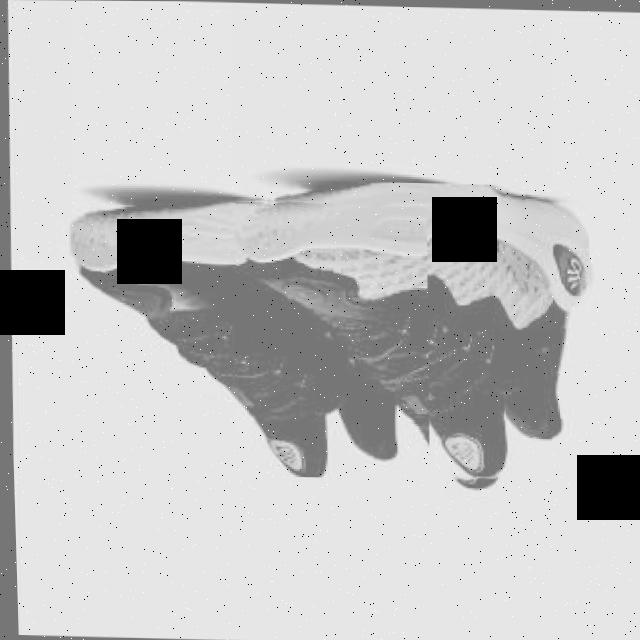shoe: (238, 178, 594, 492), (59, 193, 431, 479)
